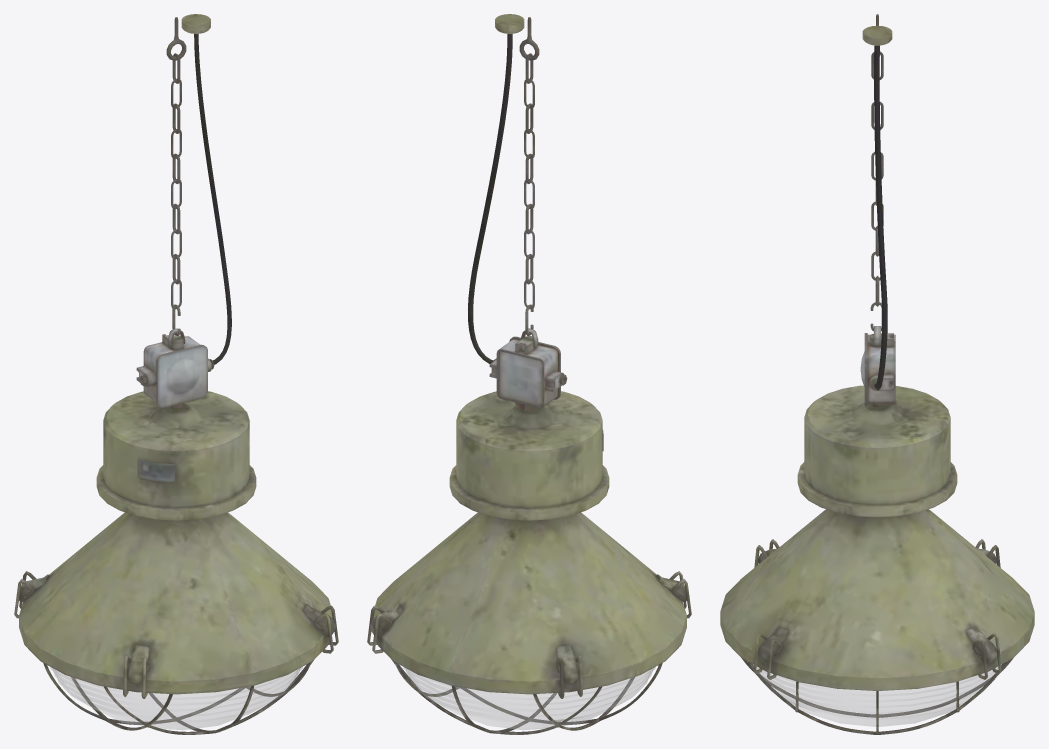
File: hanging_industrial_lamp.glb
The picture shows the model from 3 angles, left to right: view 1: azimuth 30°, elevation 25°; view 2: azimuth 150°, elevation 25°; view 3: azimuth 270°, elevation 25°; orthographic projection.
Parts seen in each view (by area): view 1: hanging_industrial_lamp_mesh; view 2: hanging_industrial_lamp_mesh; view 3: hanging_industrial_lamp_mesh.
Part boxes in pixels (left/top/right/bottom): hanging_industrial_lamp_mesh: left=14, top=14, right=338, bottom=734; hanging_industrial_lamp_mesh: left=367, top=14, right=691, bottom=734; hanging_industrial_lamp_mesh: left=720, top=14, right=1034, bottom=734.
Size of the model in its own units: 0.5497 by 1.36 by 0.5497.
Materials: 2 (1 with a texture image).
